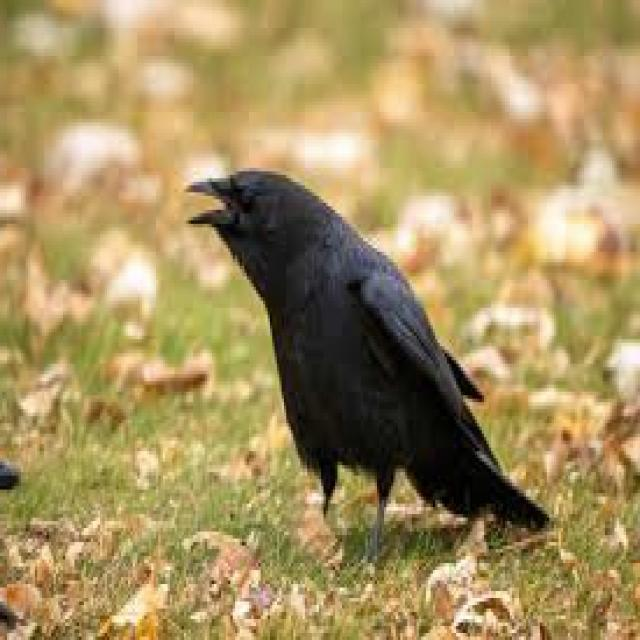crow: (189, 168, 549, 549)
